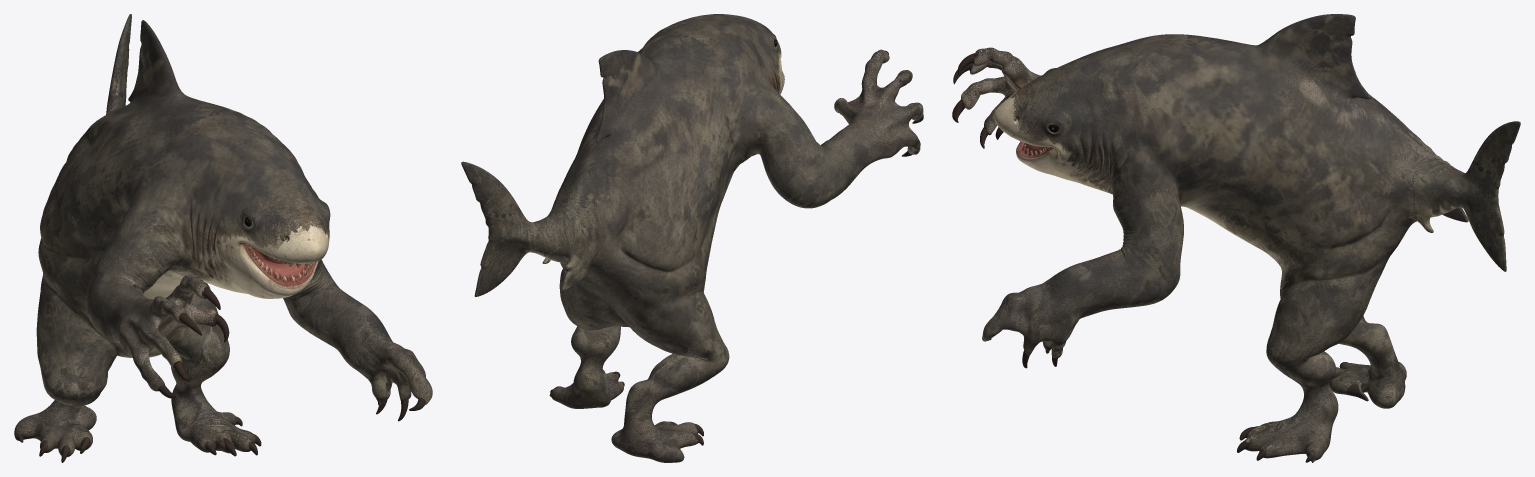
The model's file is mostro_squalo_A.glb.
The picture shows the model from 3 angles, left to right: view 1: azimuth 30°, elevation 25°; view 2: azimuth 150°, elevation 25°; view 3: azimuth 270°, elevation 25°; orthographic projection. The views are drawn at different scales.
Bounding box in the file's own units: 1.13 × 1.53 × 1.91.
Materials: 1 (1 with a texture image).
